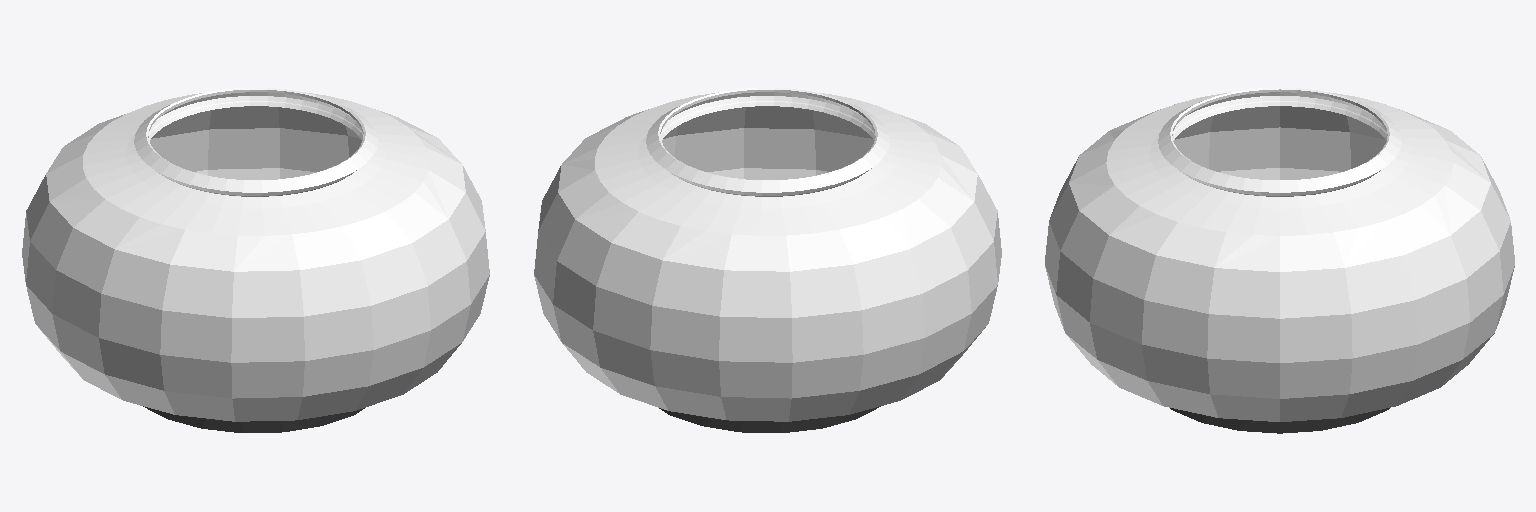
File: FishWithMultipleTexts.obj
3 views of the same model, side by side, from view 1: azimuth 30°, elevation 25°; view 2: azimuth 150°, elevation 25°; view 3: azimuth 270°, elevation 25° (orthographic).
Parts seen in each view (by area): view 1: Bowl; view 2: Bowl; view 3: Bowl.
Boxes of the visible parts, x1,y1,x2,y2 form: Bowl: [22, 88, 489, 432]; Bowl: [534, 88, 1001, 432]; Bowl: [1045, 88, 1514, 433].
Bounding box in the file's own units: 33.68 × 19.27 × 33.68.